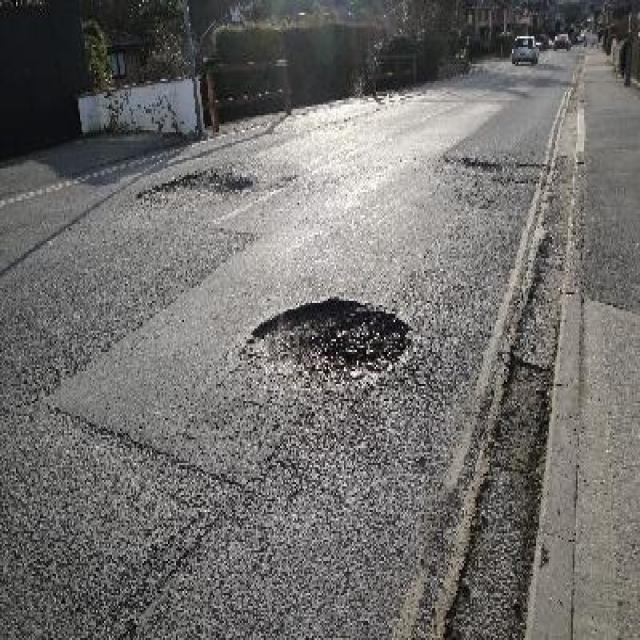road-pothole: (244, 292, 412, 376), (133, 157, 261, 207)
